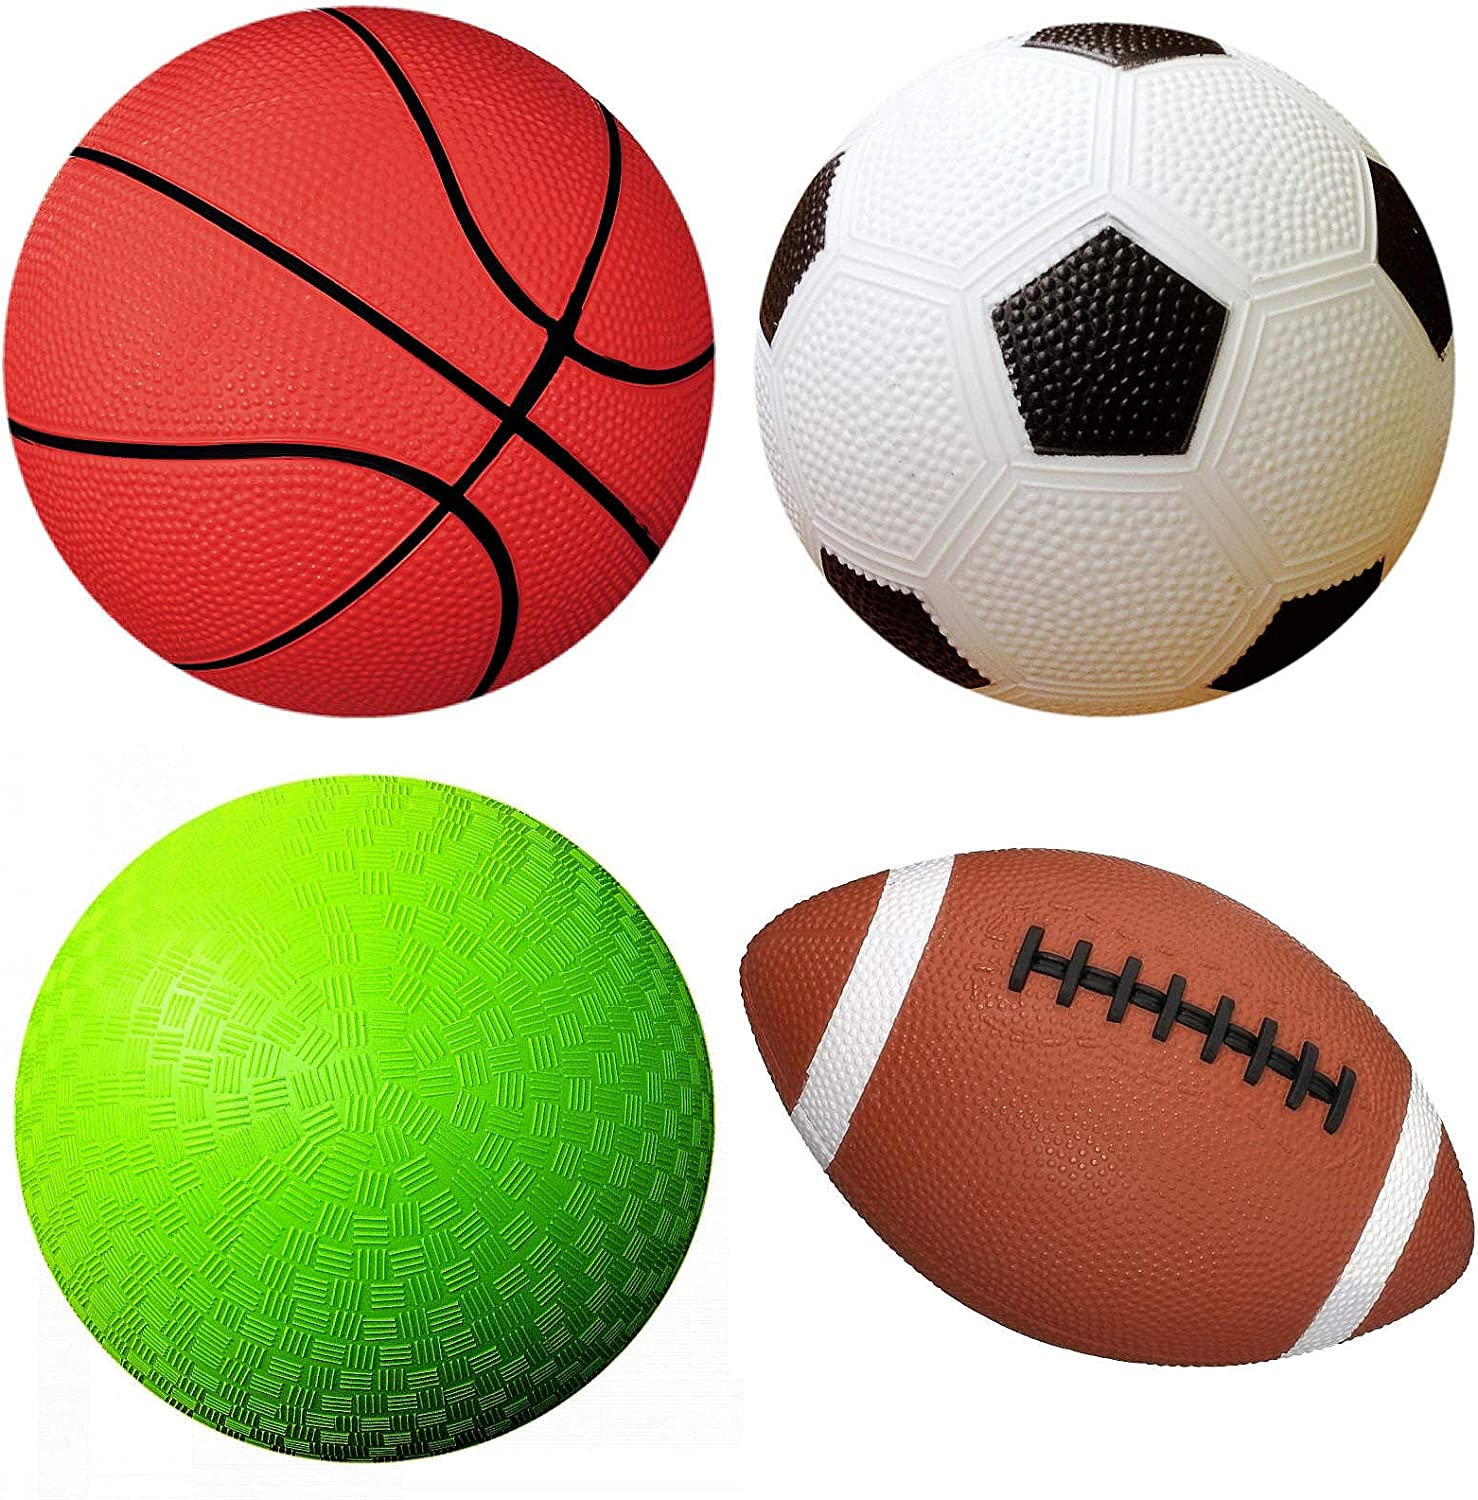ball: (5, 5, 715, 718), (751, 23, 1455, 718), (14, 773, 715, 1463)
